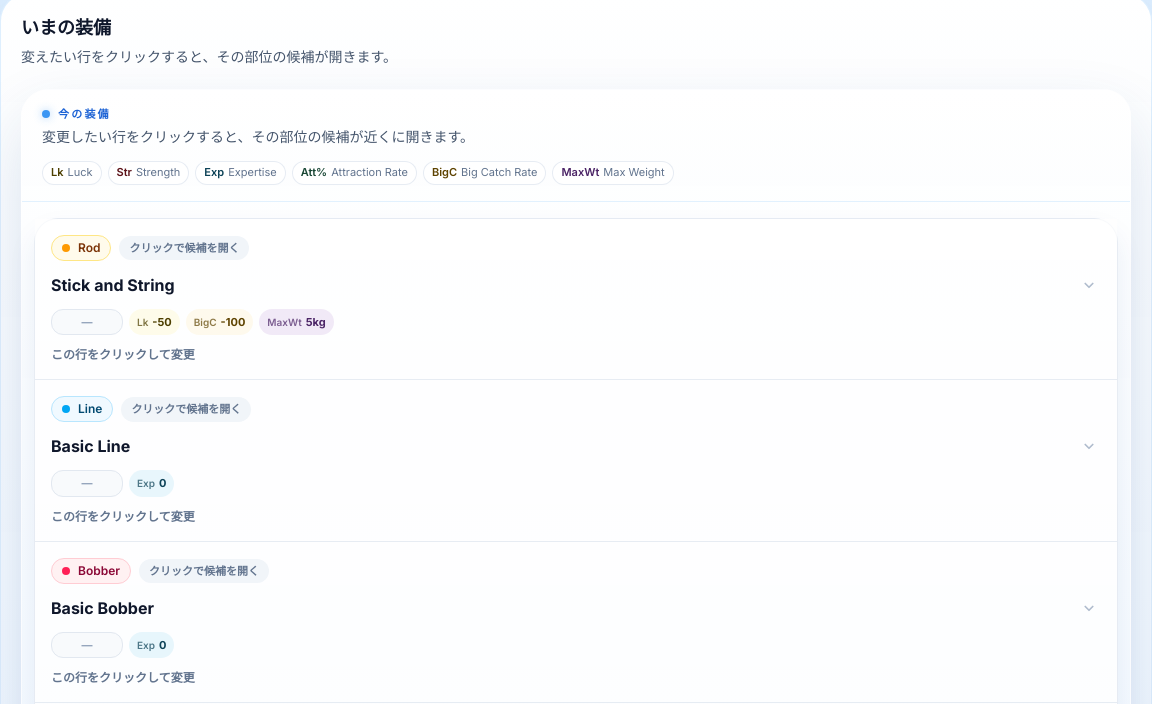
Test: UI quality – overflow and wrapping prevention › equipment picker shows empty state when search has no matches
Click the button named "Rod を選び直す" at (576, 299), box [35,219,1117,379]
(page scrolled)
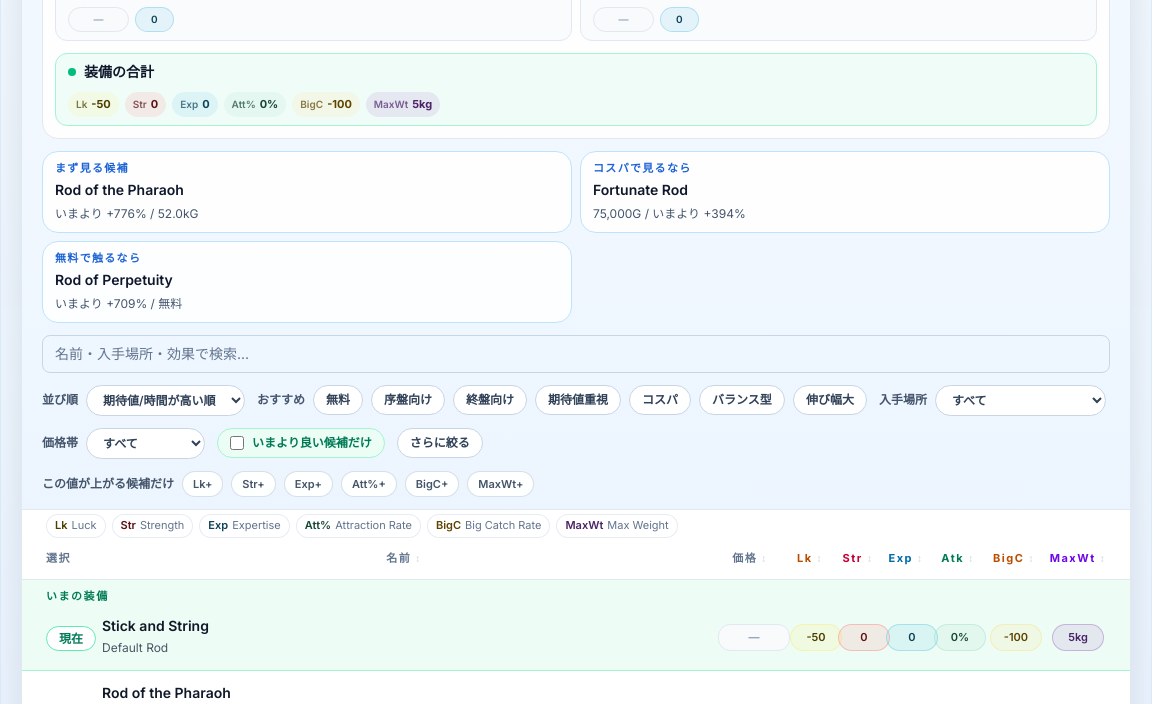
Note: Search for something that doesn't exist
Type "zzzzzzz_nonexistent" into the field named "Rod を検索" at (576, 354), box [42,335,1110,373]
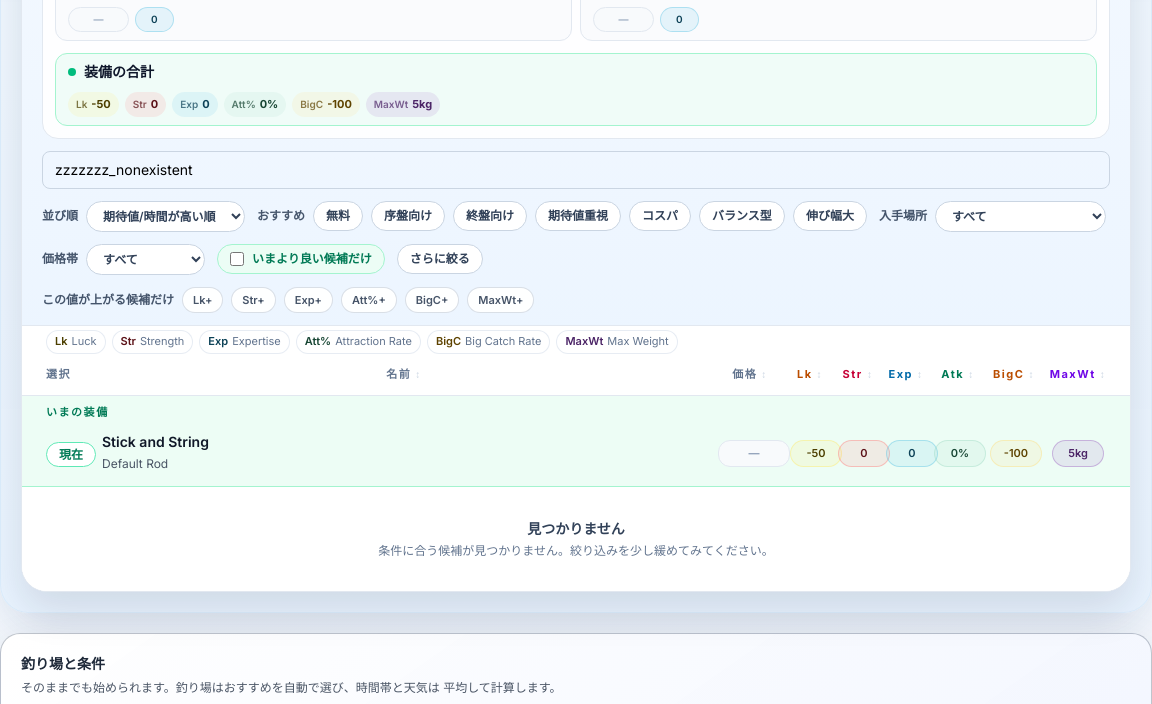
Now the text "見つかりません" is shown, box [527,519,625,539]
Now no buttons with test id "picker-option-row" are shown
